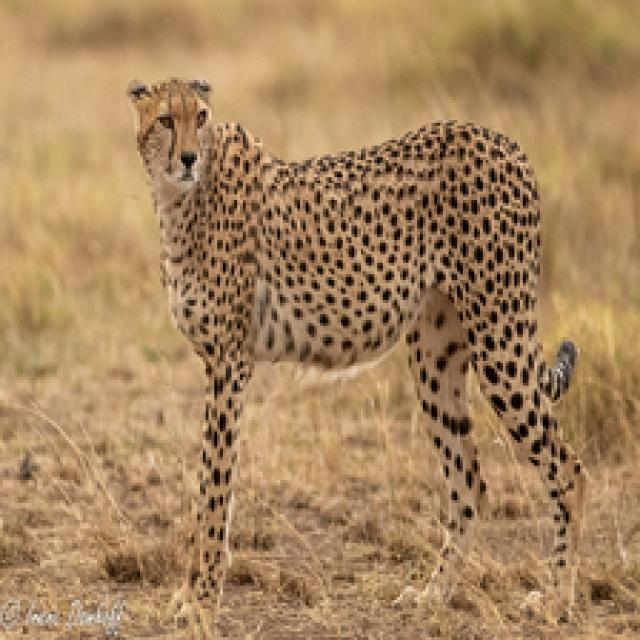cheetah: (121, 72, 586, 577)
